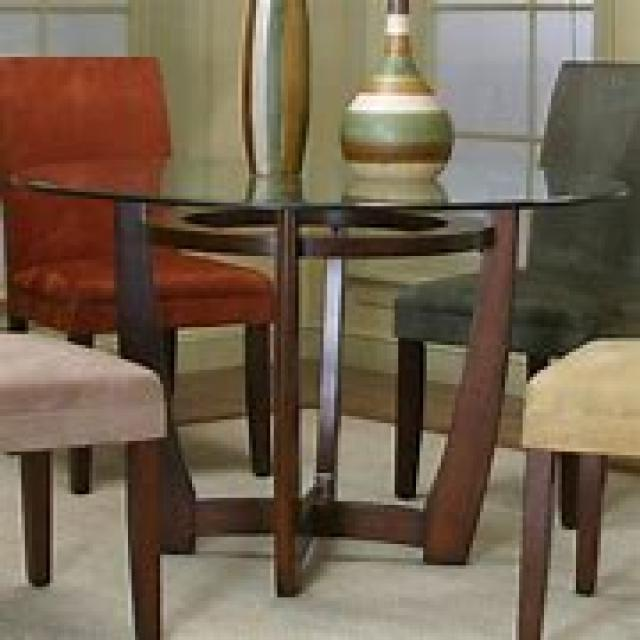chair: (0, 53, 277, 554), (391, 57, 637, 526)
table: (18, 150, 629, 590)
